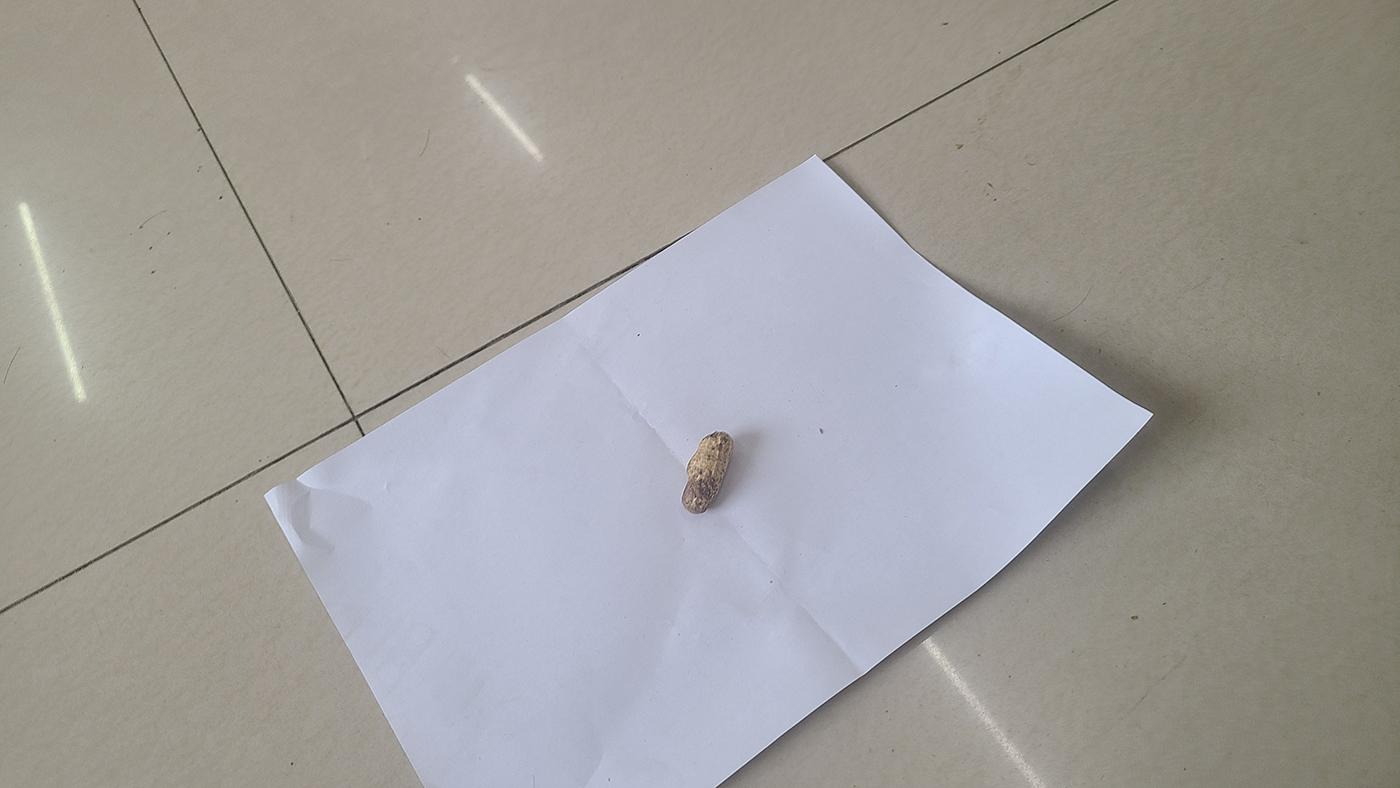h: (680, 431, 734, 514)
